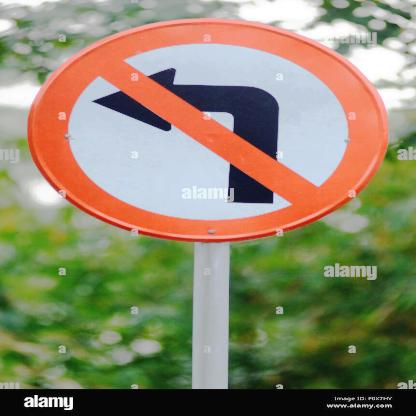No left turn: (23, 8, 381, 243)
